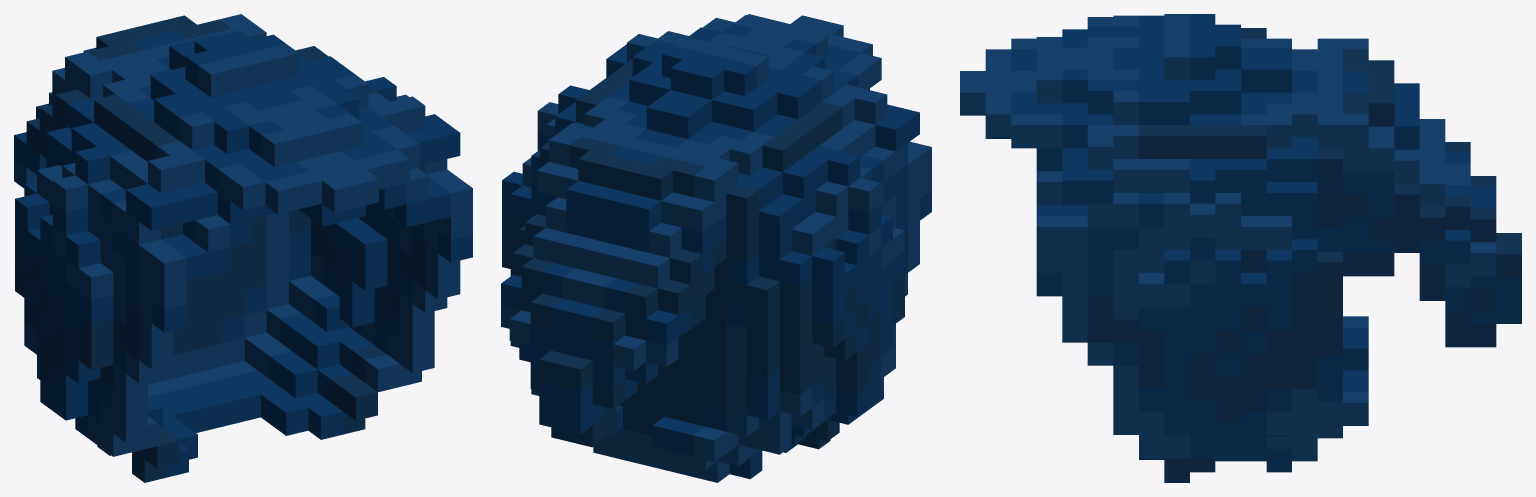
Rendered from yajin_male_hair.glb.
3 renders of one model, left to right at view 1: azimuth 30°, elevation 25°; view 2: azimuth 150°, elevation 25°; view 3: azimuth 270°, elevation 25°, orthographic. The views are drawn at different scales.
Parts seen in each view (by area): view 1: Helmet; view 2: Helmet; view 3: Helmet.
Part boxes in pixels (x1,y1,x2,y2): Helmet: (14,14,472,482); Helmet: (501,14,931,482); Helmet: (960,14,1521,482).
Bounding box in the file's own units: 0.6949 × 0.7383 × 0.9555.
Materials: 4 (4 with a texture image).
